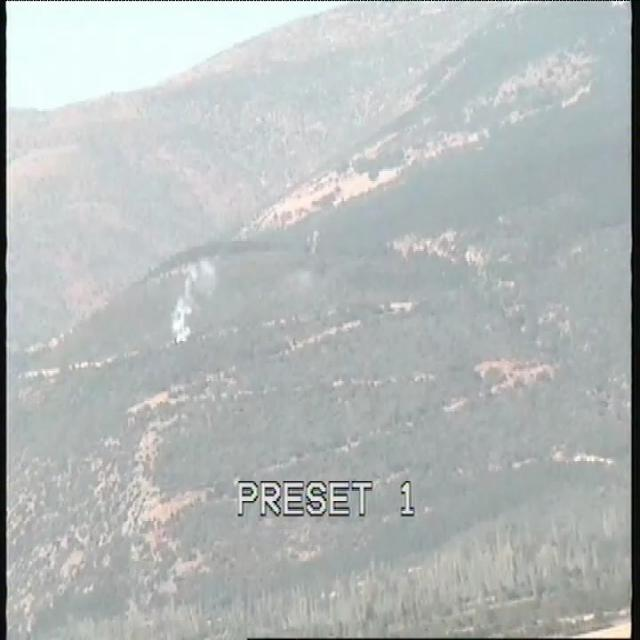smoke: (170, 252, 220, 345)
